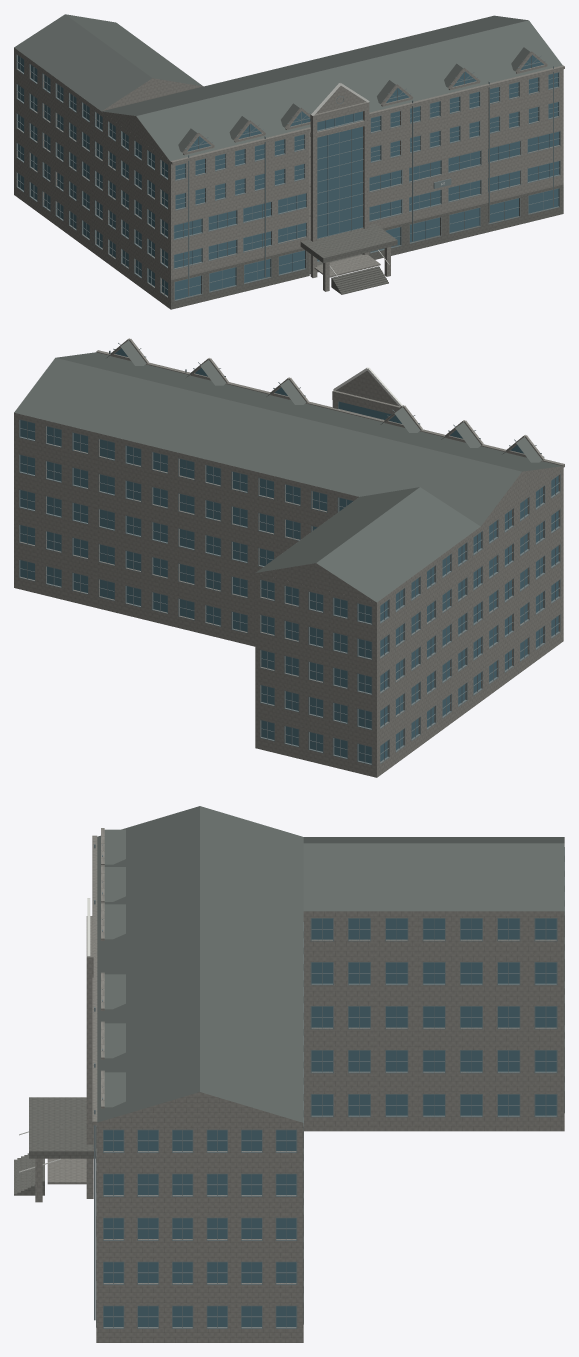
The picture shows the model from 3 angles, top to bottom: view 1: azimuth 30°, elevation 25°; view 2: azimuth 150°, elevation 25°; view 3: azimuth 270°, elevation 25°; orthographic projection. The views are drawn at different scales.
Parts seen in each view (by area): view 1: widang__stone, widang__roof, widang__glass, widang__frame, widang__rough; view 2: widang__stone, widang__roof, widang__glass, widang__frame; view 3: widang__stone, widang__roof, widang__glass, widang__frame, widang__rough.
Boxes of the visible parts, box(x1,y1,x2,y2) form: widang__stone: box(14, 47, 564, 309); widang__roof: box(14, 14, 562, 161); widang__glass: box(18, 55, 559, 299); widang__frame: box(16, 54, 560, 301); widang__rough: box(171, 184, 563, 309); widang__stone: box(14, 338, 564, 777); widang__roof: box(14, 340, 562, 602); widang__glass: box(20, 348, 558, 763); widang__frame: box(19, 343, 560, 765); widang__stone: box(35, 828, 564, 1342); widang__roof: box(97, 806, 564, 1122); widang__glass: box(103, 918, 556, 1326); widang__frame: box(94, 844, 564, 1328); widang__rough: box(14, 1097, 95, 1195).
Size of the model in its own units: 61.41 by 28.01 by 49.94.
6 materials, 2 textured.
